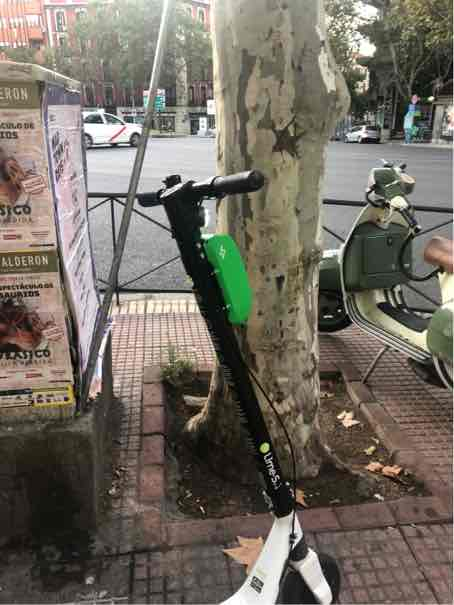scooter: (9, 200, 339, 605)
